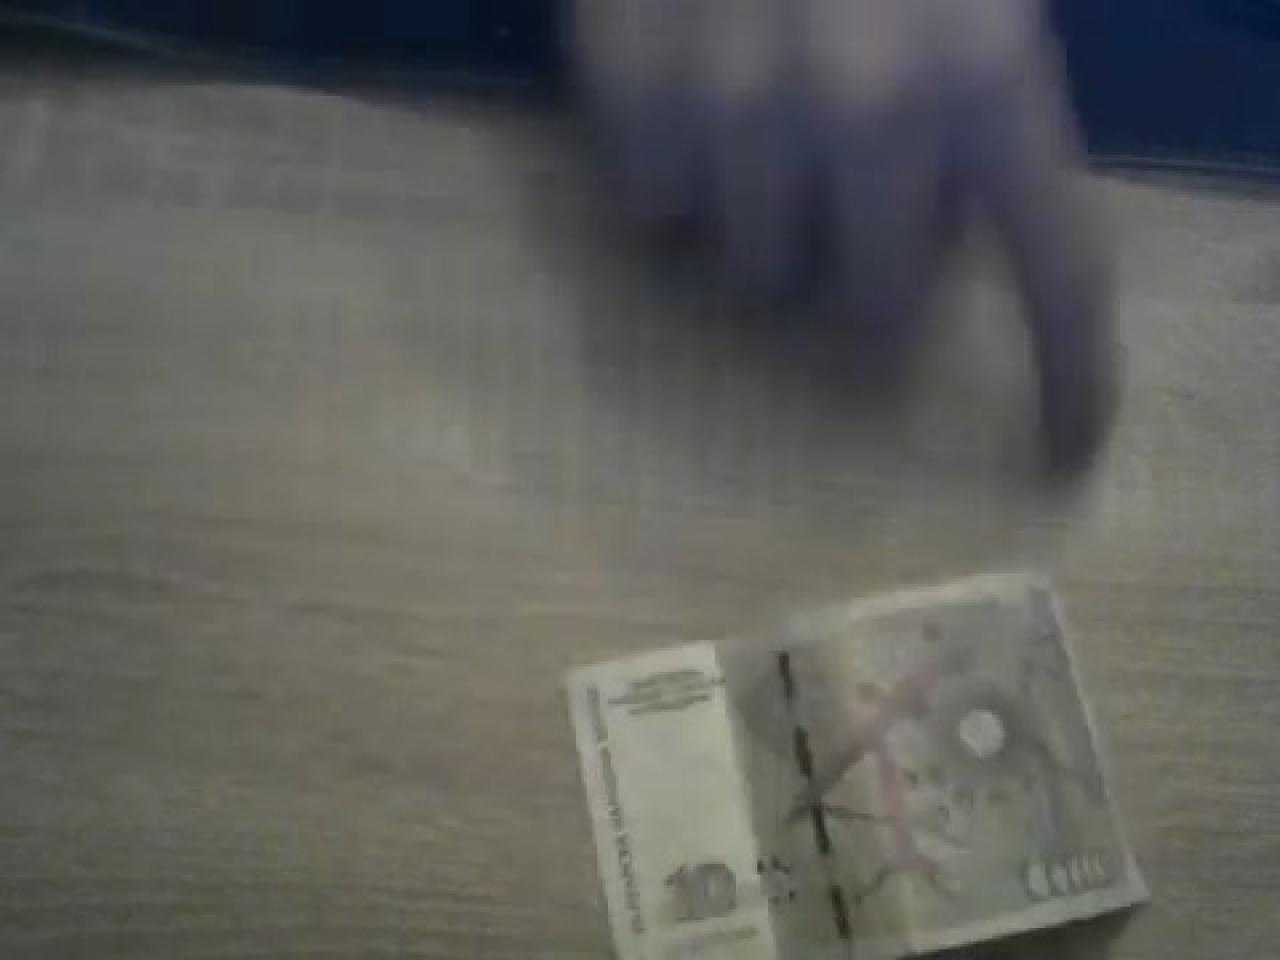10leva: (560, 576, 1147, 960)
